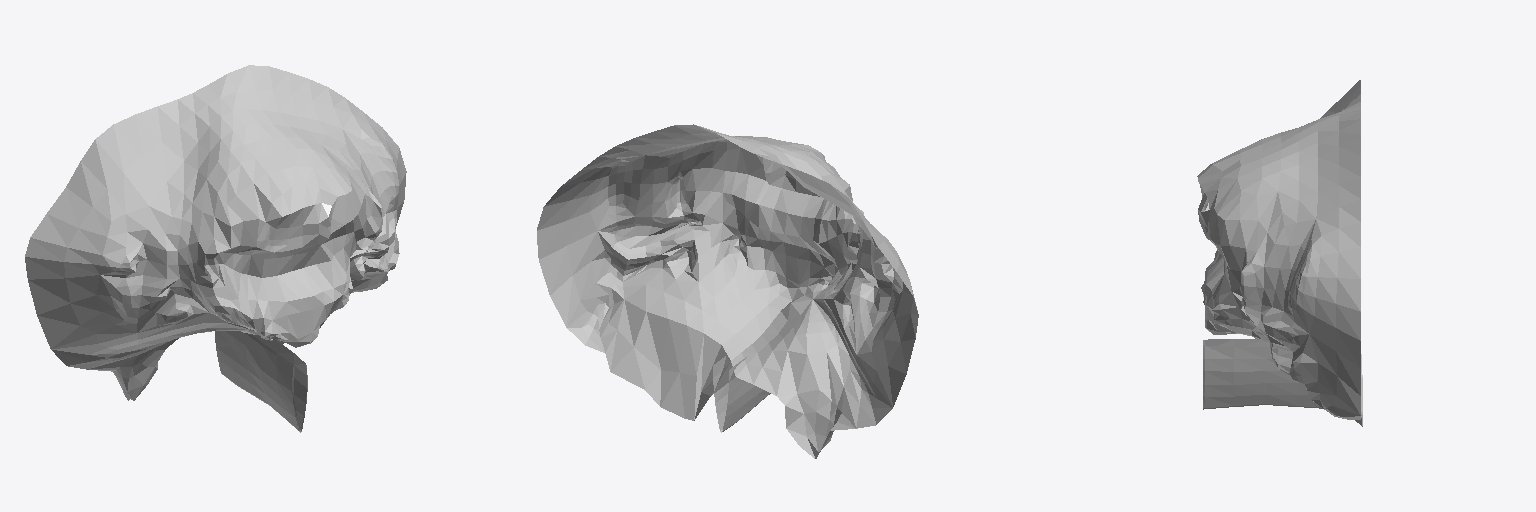
File: mountain.obj
3 views of the same model, side by side, from view 1: azimuth 30°, elevation 25°; view 2: azimuth 150°, elevation 25°; view 3: azimuth 270°, elevation 25° (orthographic).
Visible parts, largest first — view 1: minastOBJ1.015; view 2: minastOBJ1.015; view 3: minastOBJ1.015.
Boxes of the visible parts, x1,y1,x2,y2 form: minastOBJ1.015: [25, 65, 406, 432]; minastOBJ1.015: [537, 124, 918, 458]; minastOBJ1.015: [1197, 80, 1362, 426].
Size of the model in its own units: 396 by 303 by 148.